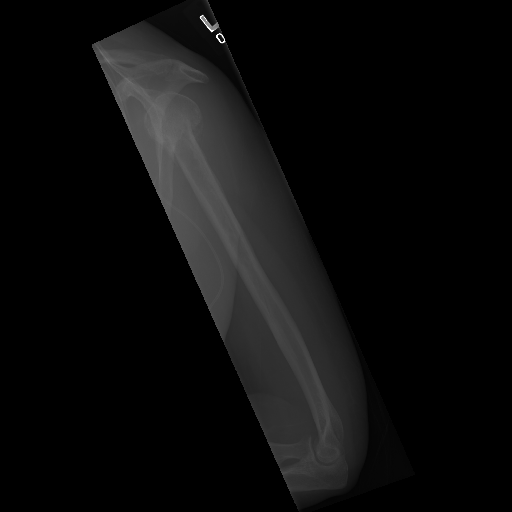fracture: (224, 206, 258, 289)
